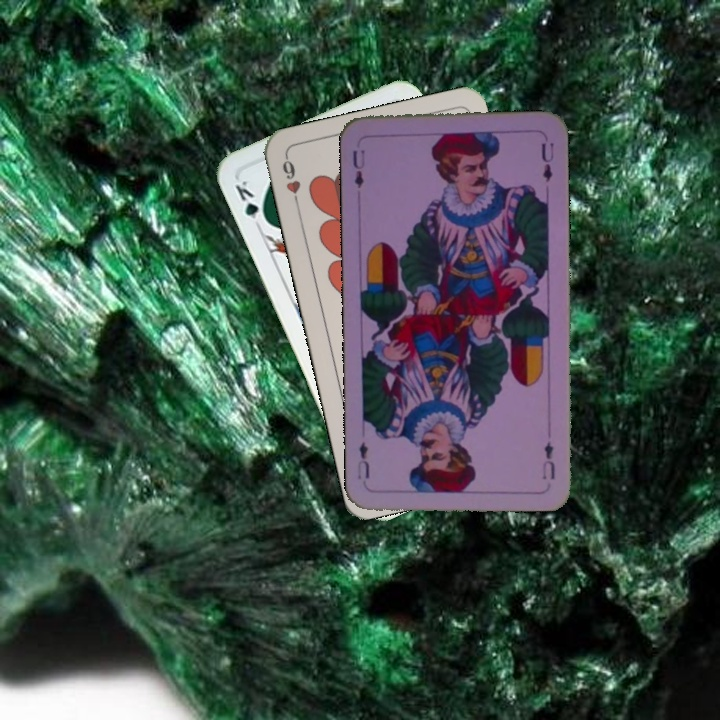EU: (538, 438, 558, 482), (349, 145, 367, 190)
GK: (231, 176, 271, 232)
H9: (278, 153, 303, 211)
